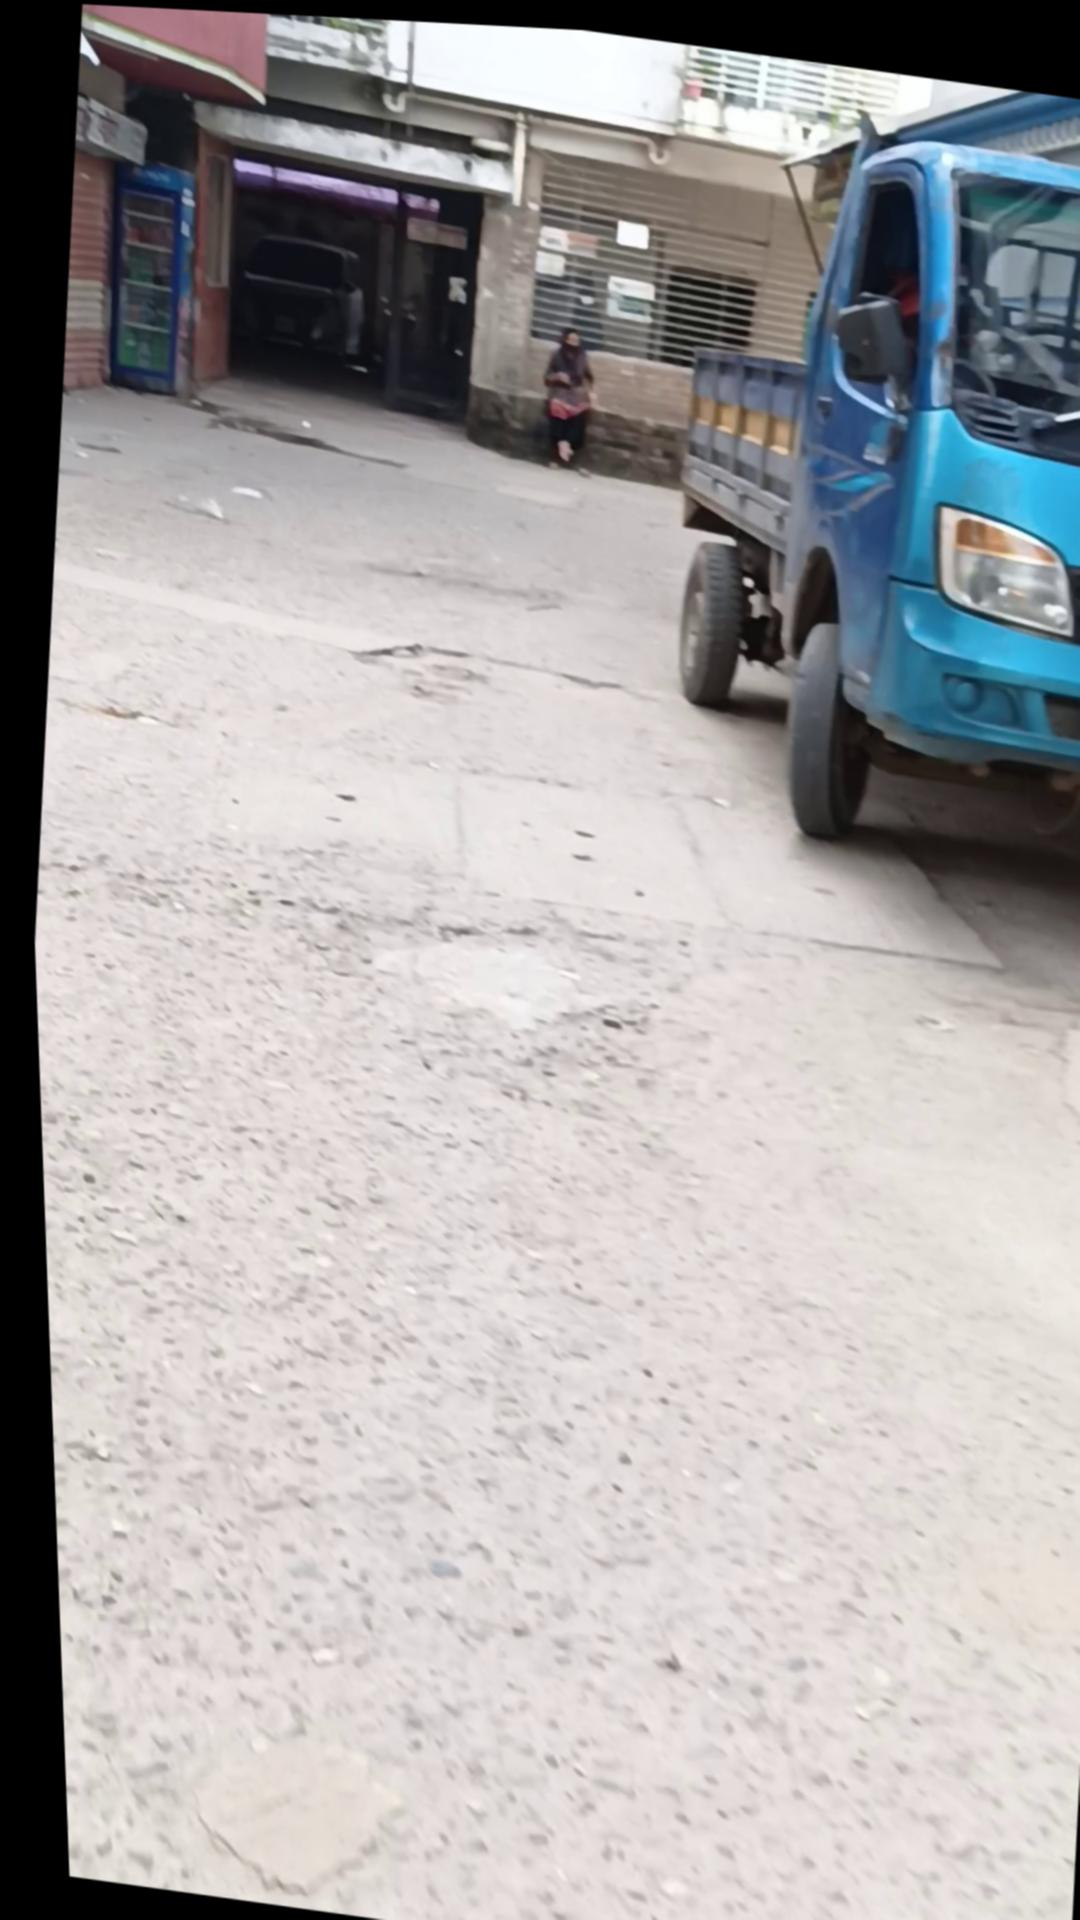Broken-road: (11, 342, 1080, 1920)
Car: (225, 224, 371, 361)
Crosswalk: (456, 375, 687, 481)
Muddy road: (529, 318, 600, 469)
Traffic-sign: (630, 38, 1080, 870)
